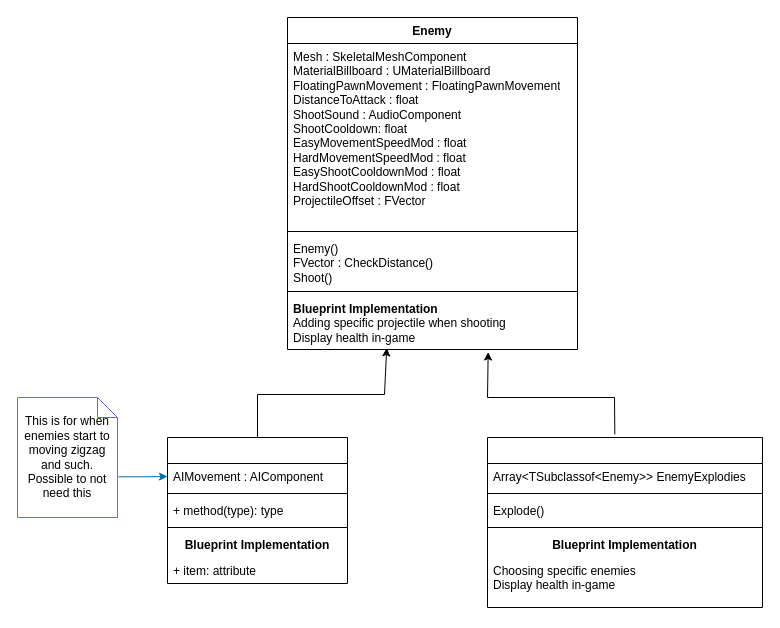
Image size: 780x628. Some labels were removed from this diagram. Each missing label, with the box of its shape:
JumboEnemy: (486, 436, 762, 608)
ShrewdEnemy: (166, 436, 348, 584)
